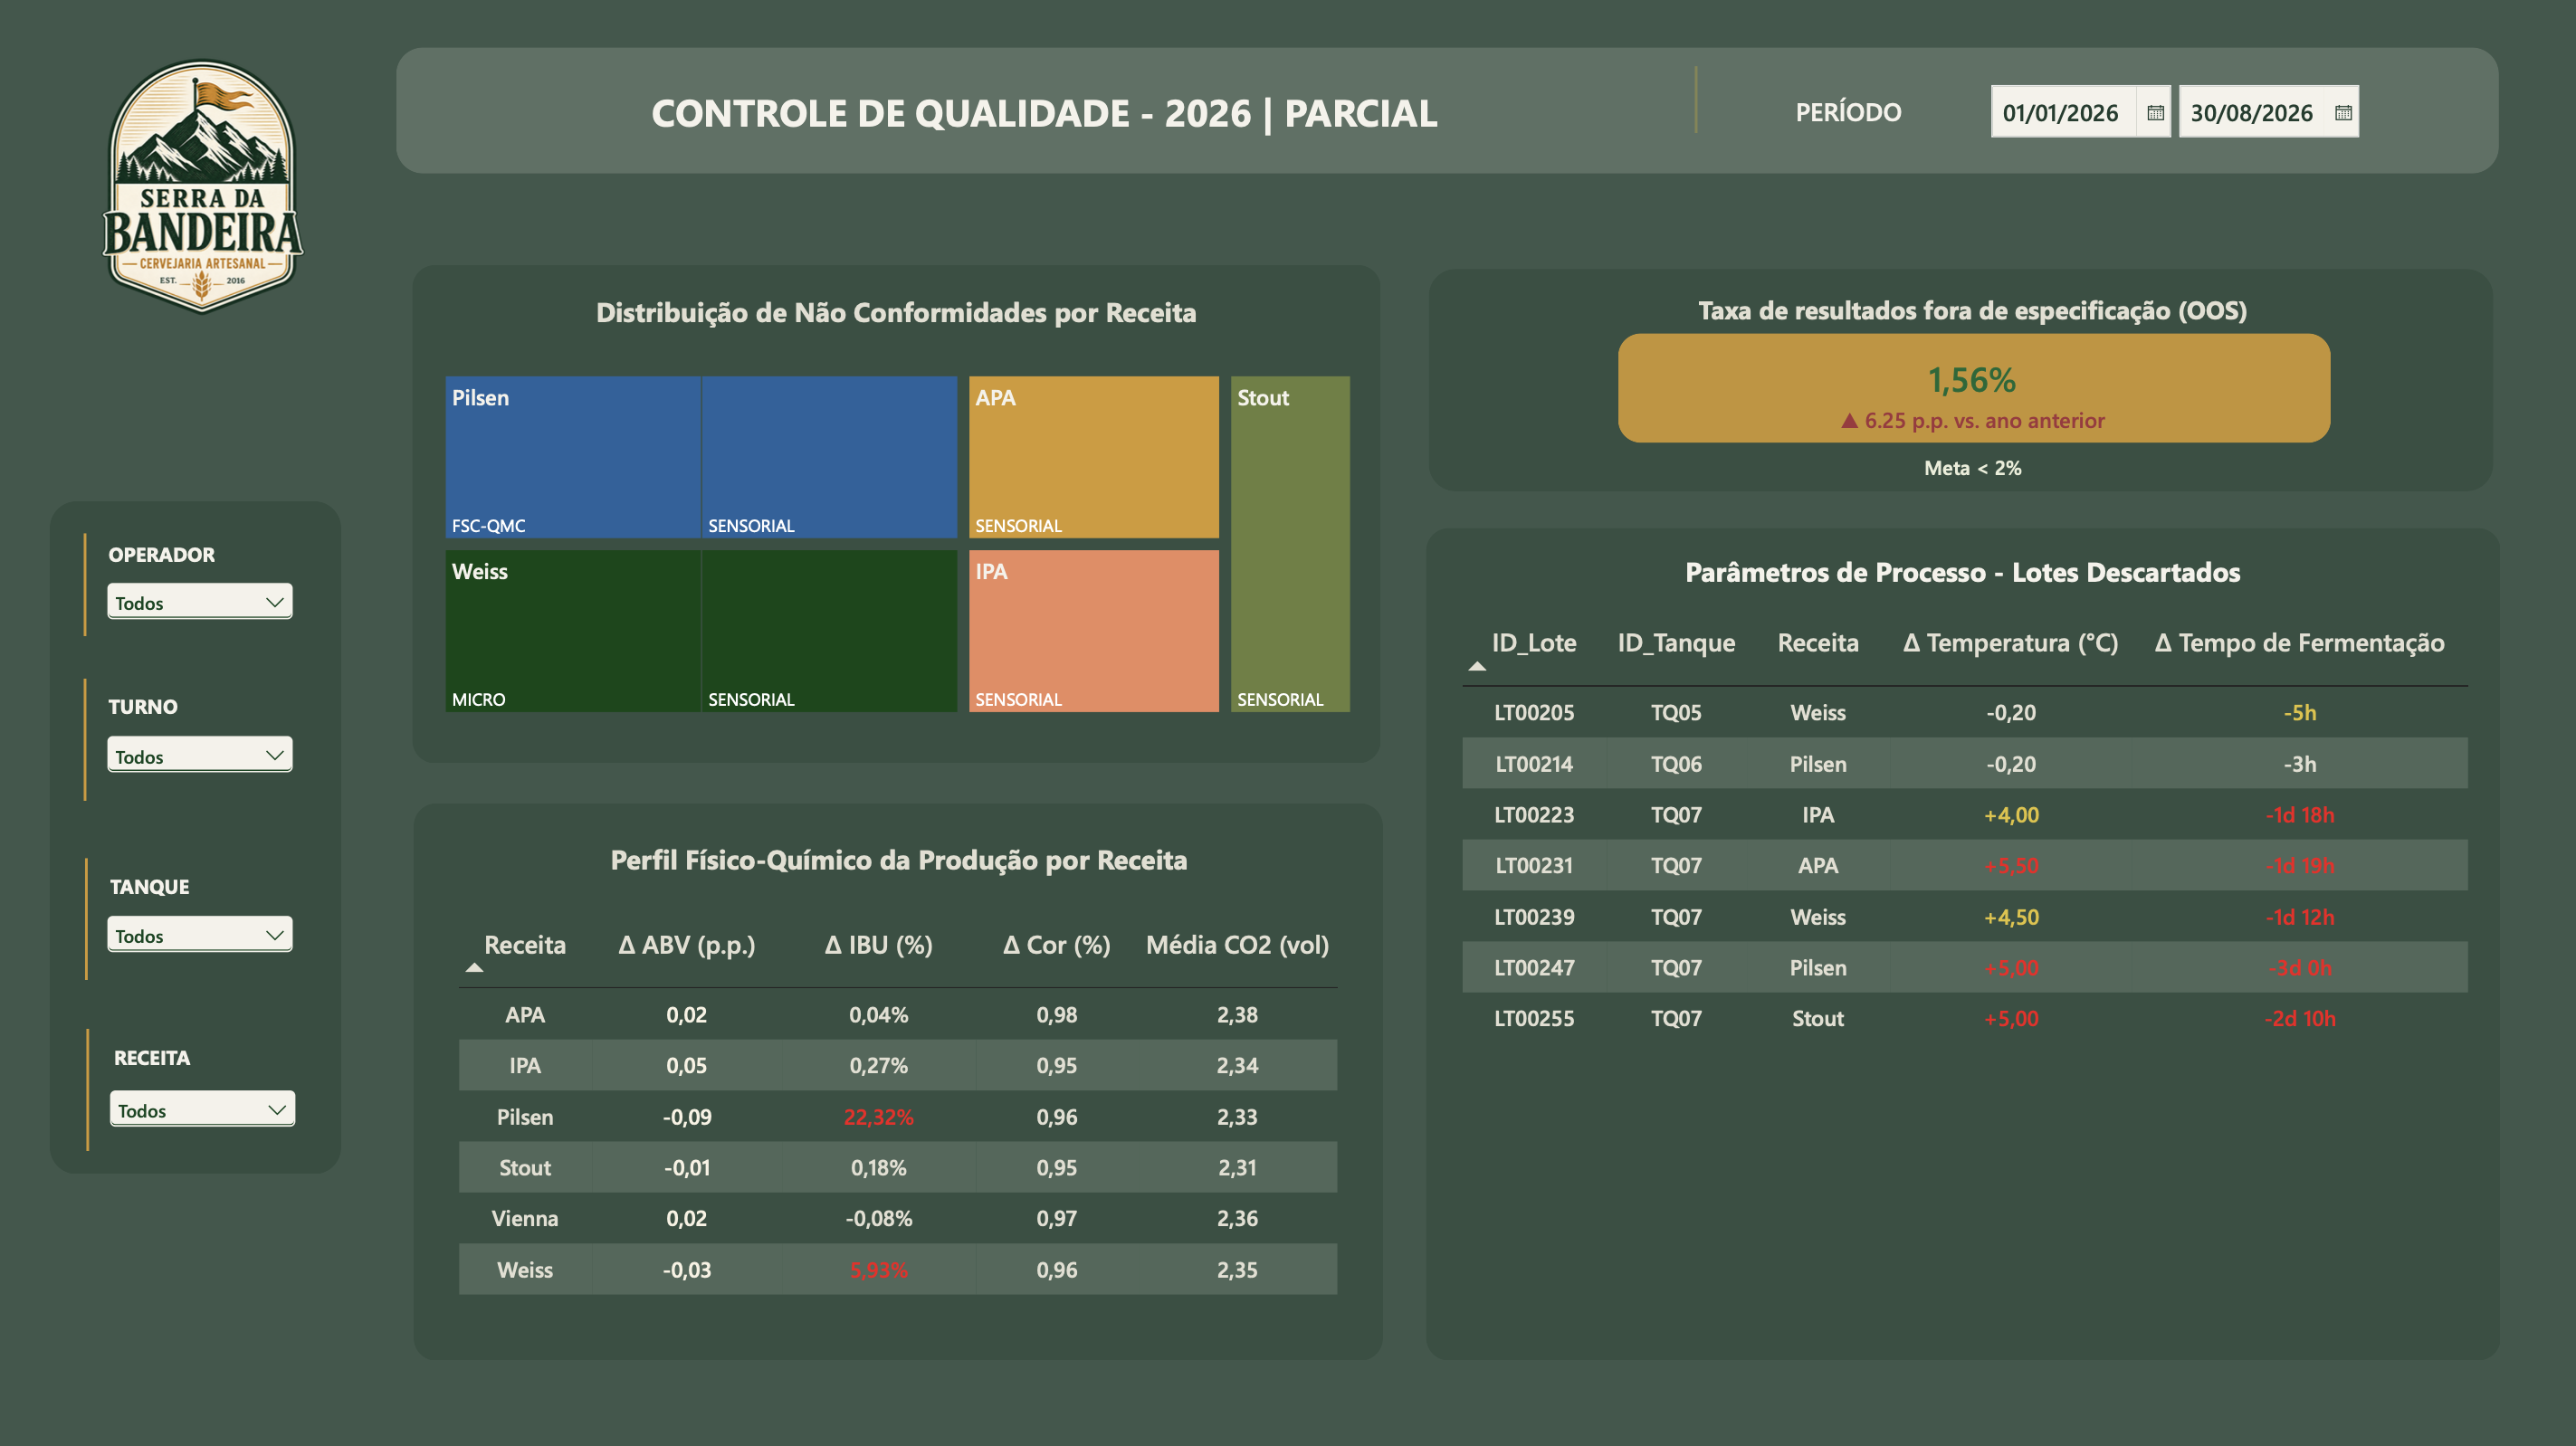

The page's visual inventory and layout, read from the dashboard file:
{"tool":"powerbi","page":{"name":"Resumo Qualidade 2 26' - Parcial","canvas":[1920,1080],"ordinal":12},"visuals":[{"type":"shape","box":[308,600,722,415.5],"z":0},{"type":"shape","box":[307.1,198.7,721.4,371.4],"z":1000},{"type":"shape","box":[1061.9,395.1,800.5,620.3],"z":2000},{"type":"image","box":[46.7,23.3,206.7,238.3],"z":3000},{"type":"shape","box":[295.3,37.3,1566,94],"z":4000},{"type":"shape","box":[292.7,46.2,970.5,76.5],"z":5000},{"type":"shape","box":[1214.3,51.4,98.3,50],"z":6000},{"type":"shape","box":[1312.5,46.2,130,77.1],"z":7000},{"type":"slicer","fields":{"Values":["DATA.Date"]},"box":[1475.1,59.7,355,65],"z":8000},{"type":"shape","box":[37.1,374.9,217.1,501.4],"z":9000},{"type":"shape","box":[80.8,392.8,128.4,42],"z":10000},{"type":"slicer","fields":{"Values":["OPERADORES.Nome_completo"]},"box":[75.4,424,147.5,57.8],"z":11000},{"type":"shape","box":[51.2,399,24.7,76.5],"z":12000},{"type":"shape","box":[80.8,506,128.4,42],"z":13000},{"type":"slicer","fields":{"Values":["OPERADORES.Turno"]},"box":[75.4,538.5,147.5,57.8],"z":14000},{"type":"shape","box":[51.2,507.3,24.7,91.4],"z":15000},{"type":"shape","box":[82.1,640.2,128.4,42],"z":16000},{"type":"shape","box":[52.4,641.4,24.7,91.4],"z":17000},{"type":"shape","box":[85.4,768,128.4,42],"z":18000},{"type":"shape","box":[52.7,768,24.7,91.4],"z":19000},{"type":"slicer","fields":{"Values":["RECEITA.Receita"]},"box":[76.8,802.4,147.5,57.8],"z":20000},{"type":"slicer","fields":{"Values":["TANQUE.ID_Tanque"]},"box":[75.4,671.9,147.5,57.8],"z":21000},{"type":"tableEx","fields":{"Values":["RECEITA.Receita","CONTROLE_QUALIDADE.Desvio_ABV_Absoluto","CONTROLE_QUALIDADE.Desvio_IBU_Relativo","CONTROLE_QUALIDADE.Desvio_Cor_Relativo","CONTROLE_QUALIDADE.Media_CO2_Medido"]},"box":[325.4,669.7,694.4,313.8],"z":22000},{"type":"tableEx","fields":{"Values":["LOTES.ID_Lote","CONTROLE_QUALIDADE.ID_Tanque","RECEITA.Receita","CONTROLE_QUALIDADE.Desvio_Temperatura_Lotes_Rejeitados","CONTROLE_QUALIDADE.Desvio_Tempo_Texto_PorLote"]},"box":[1072.1,444.5,806.3,592.7],"z":23000},{"type":"shape","box":[309.4,602.9,722,75.5],"z":24000},{"type":"shape","box":[1061.9,396.6,800.5,58.1],"z":25000},{"type":"shape","box":[1063.8,201.5,792.9,165.7],"z":26000},{"type":"shape","box":[1205,250.4,530.9,81.6],"z":27000},{"type":"cardVisual","fields":{"Data":["CONTROLE_QUALIDADE.Taxa_OOS"]},"box":[1204.4,257.3,531.7,50.7],"z":28000},{"type":"shape","box":[1204,211,531.7,40.9],"z":29000},{"type":"shape","box":[1204,332.1,531.7,34.4],"z":30000},{"type":"treemap","fields":{"Group":["RECEITA.Receita"],"Values":["CONTROLE_QUALIDADE.Lotes_Rejeitado_NC_FSCQMC","CONTROLE_QUALIDADE.Lotes_Rejeitado_NC_Micro","CONTROLE_QUALIDADE.Lotes_Rejeitado_NC_Sensorial"]},"box":[307.6,260.1,721.4,296.1],"z":31000},{"type":"shape","box":[307.1,200.2,721.4,65.7],"z":32000},{"type":"cardVisual","fields":{"Data":["PRODUCAO.Variacao_Taxa_Rejeicao_pp"]},"box":[1355.2,296.2,231.4,35.7],"z":33000}]}

Visuals, with their boxes in screenshot pixels (x1, y1, x2, y2), scaled from the page's 1920x1080 canvas onto the 2576x1446 screenshot:
shape: box=[414, 804, 1382, 1360]
shape: box=[412, 266, 1380, 764]
shape: box=[1425, 529, 2499, 1359]
image: box=[62, 31, 340, 350]
shape: box=[396, 50, 2497, 176]
shape: box=[393, 62, 1694, 165]
shape: box=[1629, 69, 1761, 136]
shape: box=[1761, 62, 1935, 165]
slicer - DATA.Date: box=[1980, 80, 2456, 167]
shape: box=[50, 502, 341, 1174]
shape: box=[109, 526, 281, 582]
slicer - OPERADORES.Nome_completo: box=[101, 567, 299, 645]
shape: box=[69, 534, 102, 637]
shape: box=[109, 678, 281, 734]
slicer - OPERADORES.Turno: box=[101, 721, 299, 798]
shape: box=[69, 680, 102, 802]
shape: box=[110, 857, 282, 913]
shape: box=[71, 859, 103, 981]
shape: box=[115, 1028, 287, 1084]
shape: box=[71, 1028, 104, 1151]
slicer - RECEITA.Receita: box=[103, 1074, 301, 1152]
slicer - TANQUE.ID_Tanque: box=[101, 899, 299, 977]
tableEx - RECEITA.Receita x CONTROLE_QUALIDADE.Desvio_ABV_Absoluto: box=[436, 897, 1369, 1317]
tableEx - LOTES.ID_Lote x CONTROLE_QUALIDADE.ID_Tanque: box=[1438, 595, 2520, 1389]
shape: box=[415, 807, 1384, 909]
shape: box=[1425, 531, 2499, 609]
shape: box=[1427, 270, 2491, 491]
shape: box=[1617, 335, 2329, 444]
cardVisual - CONTROLE_QUALIDADE.Taxa_OOS: box=[1616, 345, 2329, 413]
shape: box=[1616, 282, 2329, 338]
shape: box=[1616, 444, 2329, 490]
treemap - RECEITA.Receita x CONTROLE_QUALIDADE.Lotes_Rejeitado_NC_FSCQMC: box=[413, 348, 1380, 745]
shape: box=[412, 268, 1380, 356]
cardVisual - PRODUCAO.Variacao_Taxa_Rejeicao_pp: box=[1818, 396, 2129, 444]
